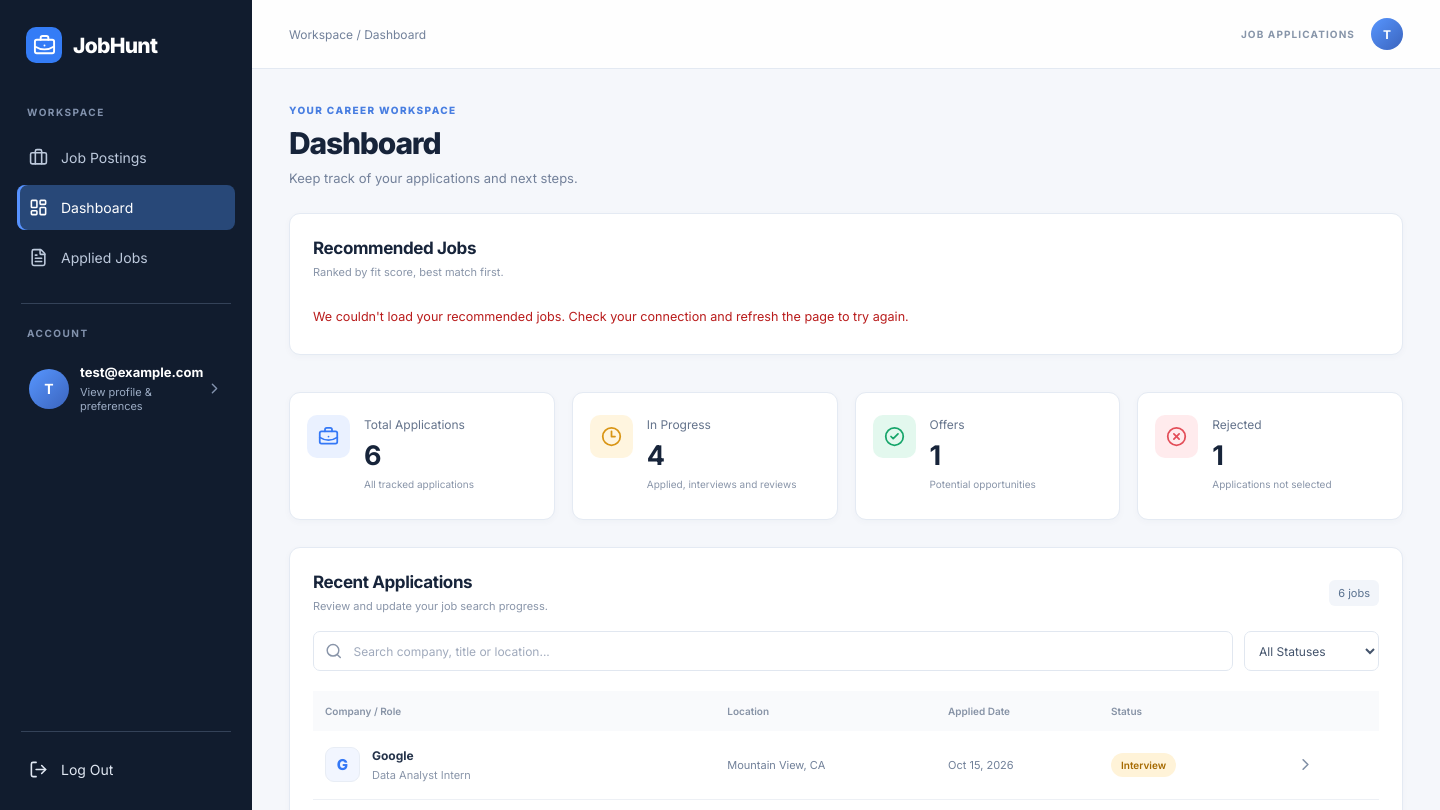
Test: JH-021 saved search preferences integration › applies saved remote-only preferences to job postings
The width and height of the screenshot is (1440, 810).
Expected: the text "test@example.com" is shown, x1=80 y1=364 x2=195 y2=380
What coordinates should you click on to do the following:
click the button "Job Postings"
I would click on:
 (126, 158)
Its box is x1=17 y1=135 x2=235 y2=180.
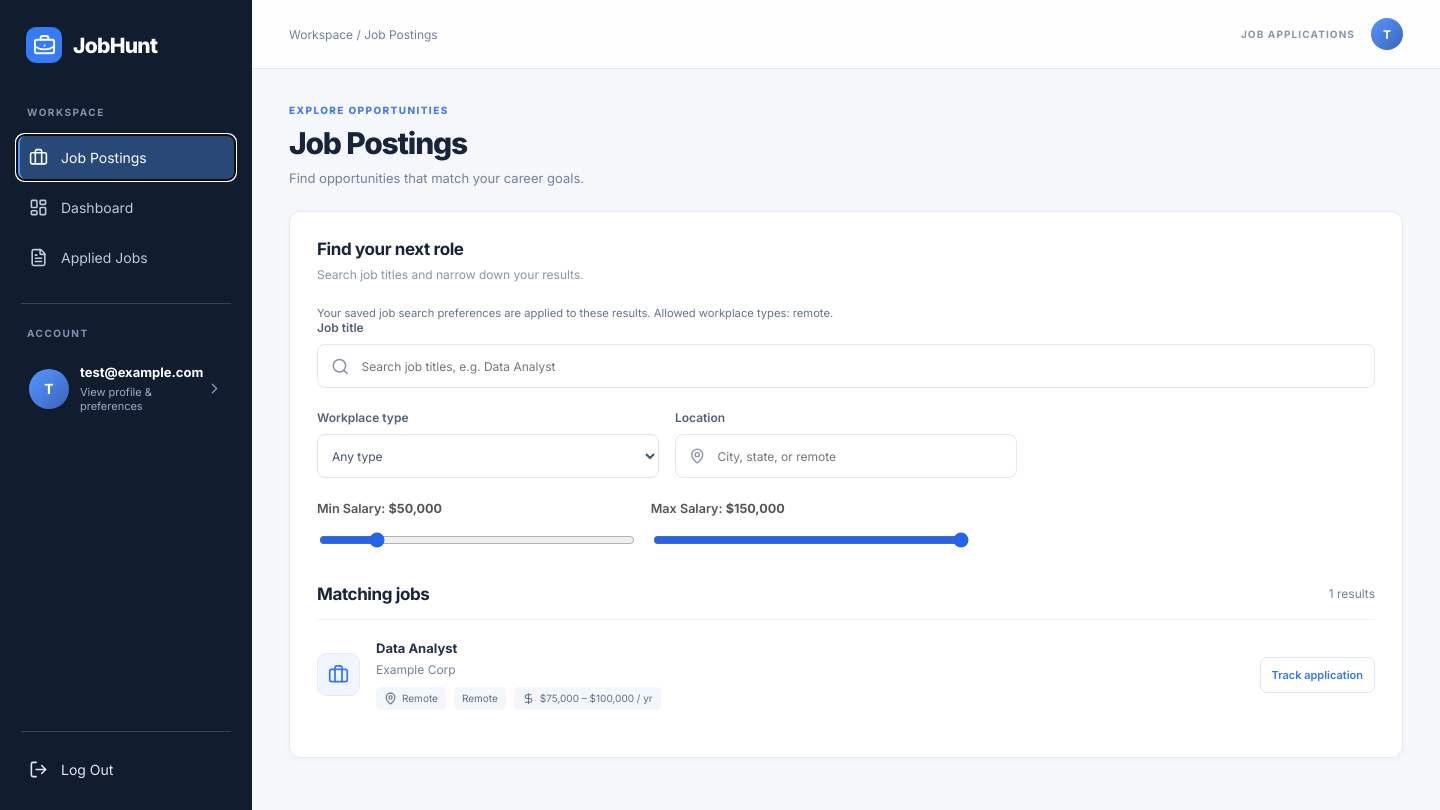
Expected: the heading "Data Analyst" is shown, x1=376 y1=640 x2=457 y2=656
Expected: the text "Your saved job search preferences are applied" is shown, x1=317 y1=306 x2=651 y2=320
Expected: the text "1 results" is shown, x1=1329 y1=586 x2=1375 y2=601
